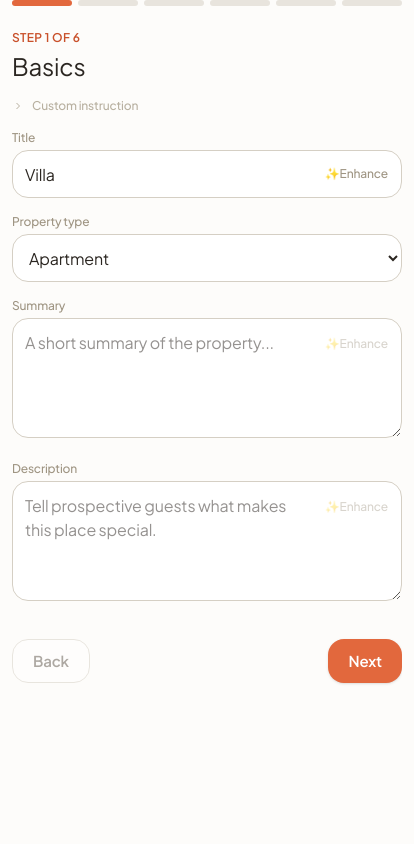
Test case: PropertyForm › shows image upload UI on step 4 when mode is edit
Click the button "Next": x=365, y=661 top-left (328, 639), bottom-right (402, 683)
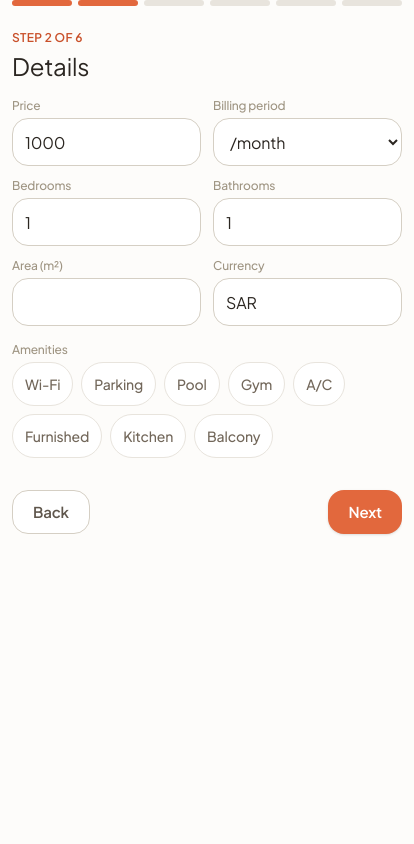
Click the button "Next": x=365, y=512 top-left (328, 490), bottom-right (402, 534)
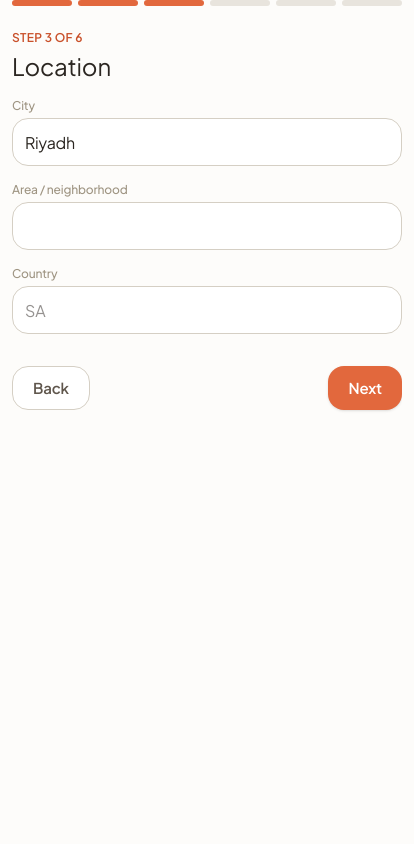
Click the button "Next": x=365, y=388 top-left (328, 366), bottom-right (402, 410)
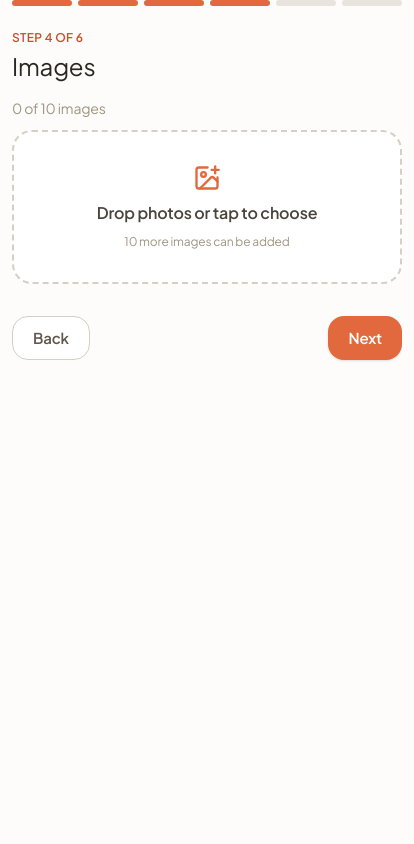
Expected: the text "Drop photos or tap to choose" is shown, top-left (97, 200), bottom-right (317, 226)
